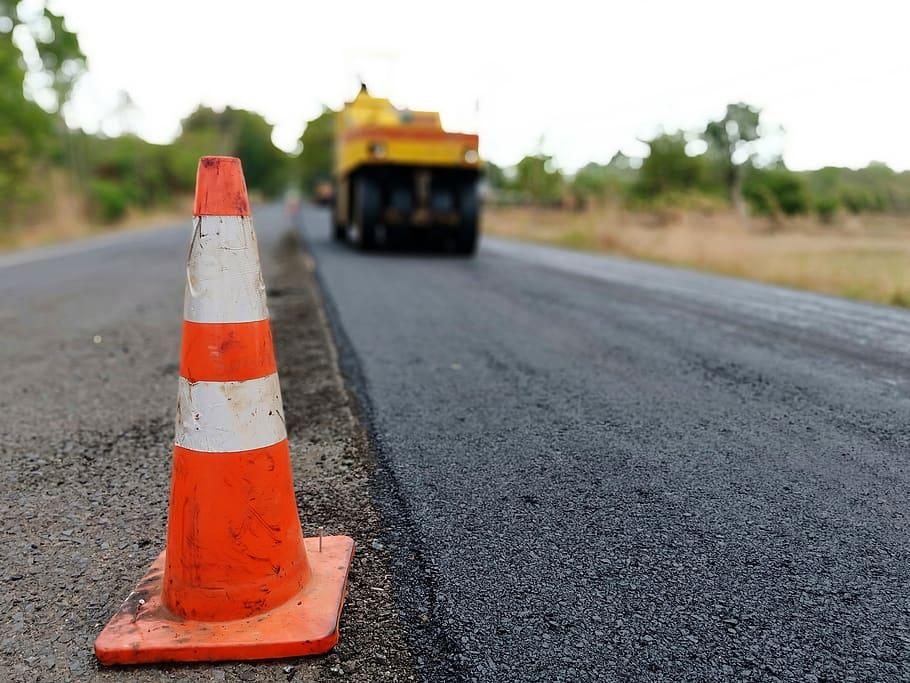traffic cone: (94, 155, 358, 666)
